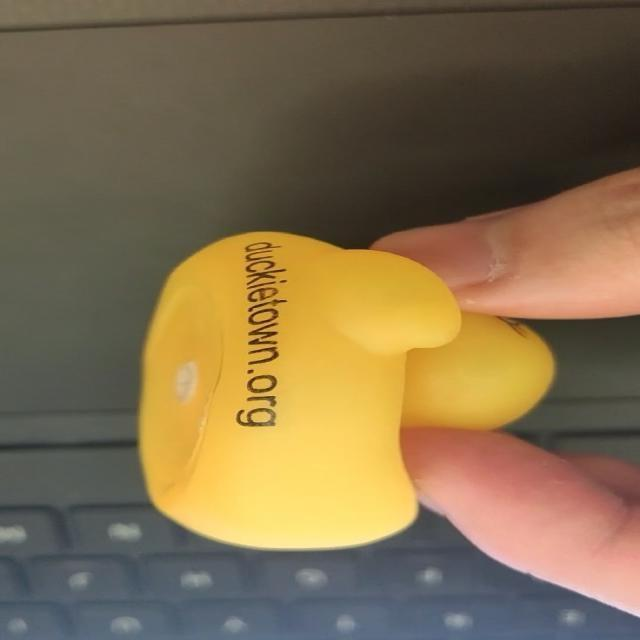rubber-duck: (139, 231, 551, 547)
